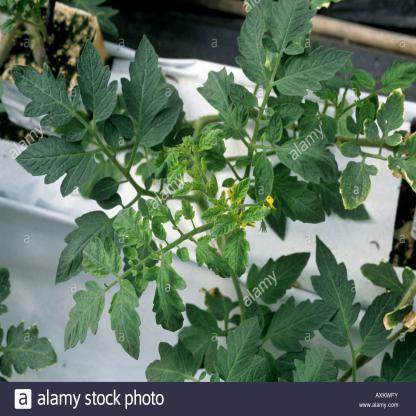Tomato leaf yellow virus: (224, 226, 253, 278), (209, 213, 244, 241), (233, 203, 274, 224)
